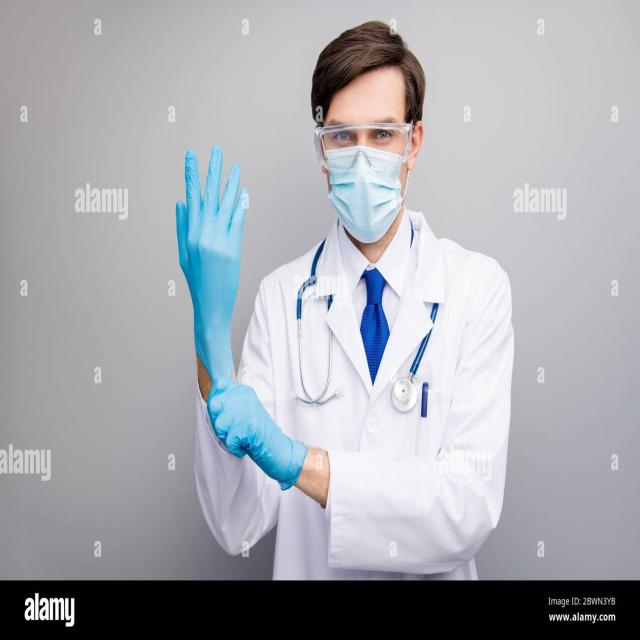Gloves: (166, 137, 252, 372), (198, 372, 314, 499)
